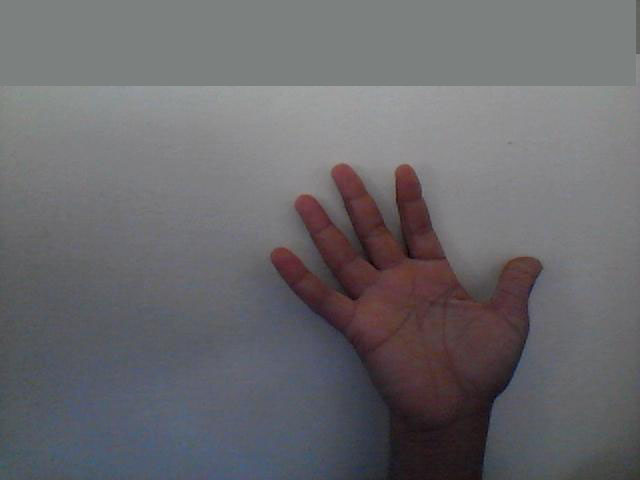hand: (262, 152, 543, 407)
